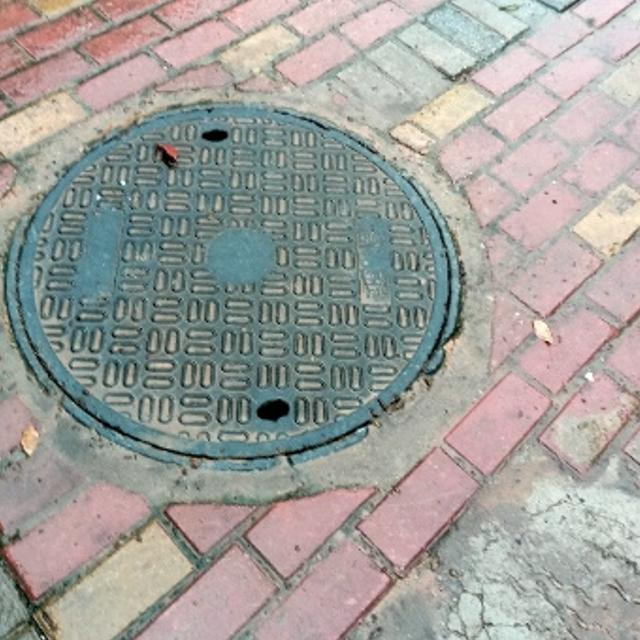good: (0, 103, 461, 470)
